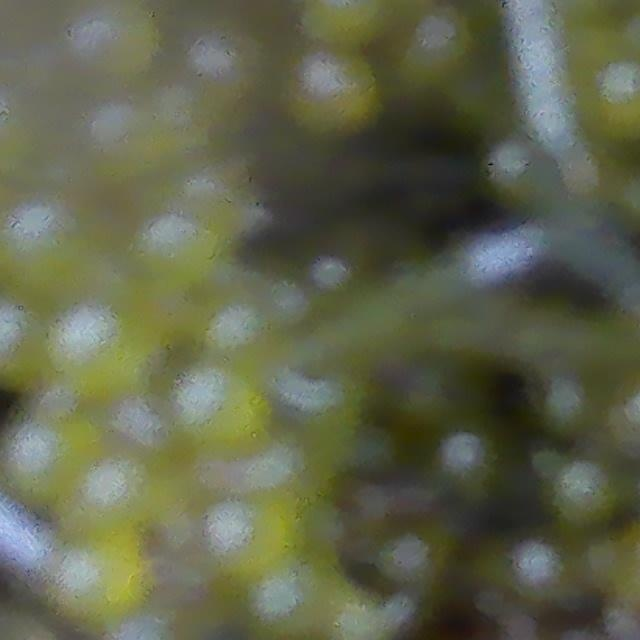SeaGrape: (66, 304, 147, 396), (17, 187, 91, 285), (290, 43, 371, 132), (86, 14, 166, 87), (549, 456, 624, 532), (140, 215, 207, 294), (196, 370, 272, 437), (189, 24, 256, 99), (14, 423, 84, 493), (0, 297, 52, 390), (91, 124, 161, 189), (419, 4, 477, 80), (100, 469, 156, 539), (600, 55, 640, 142)
